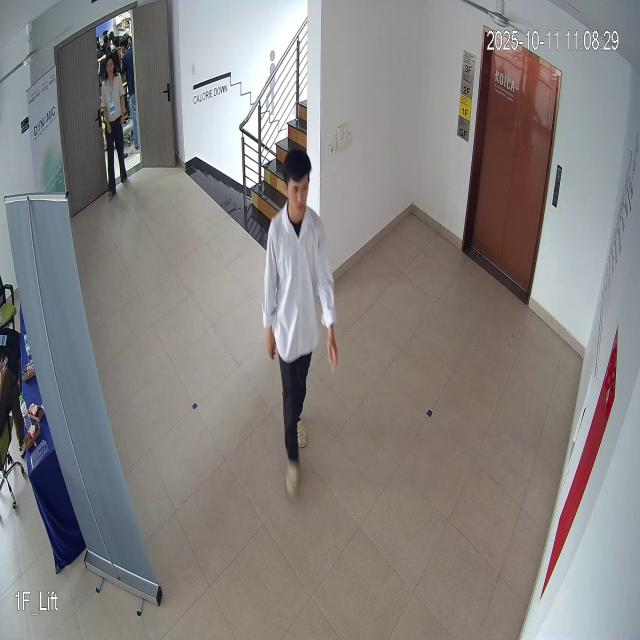face: (278, 142, 313, 225)
